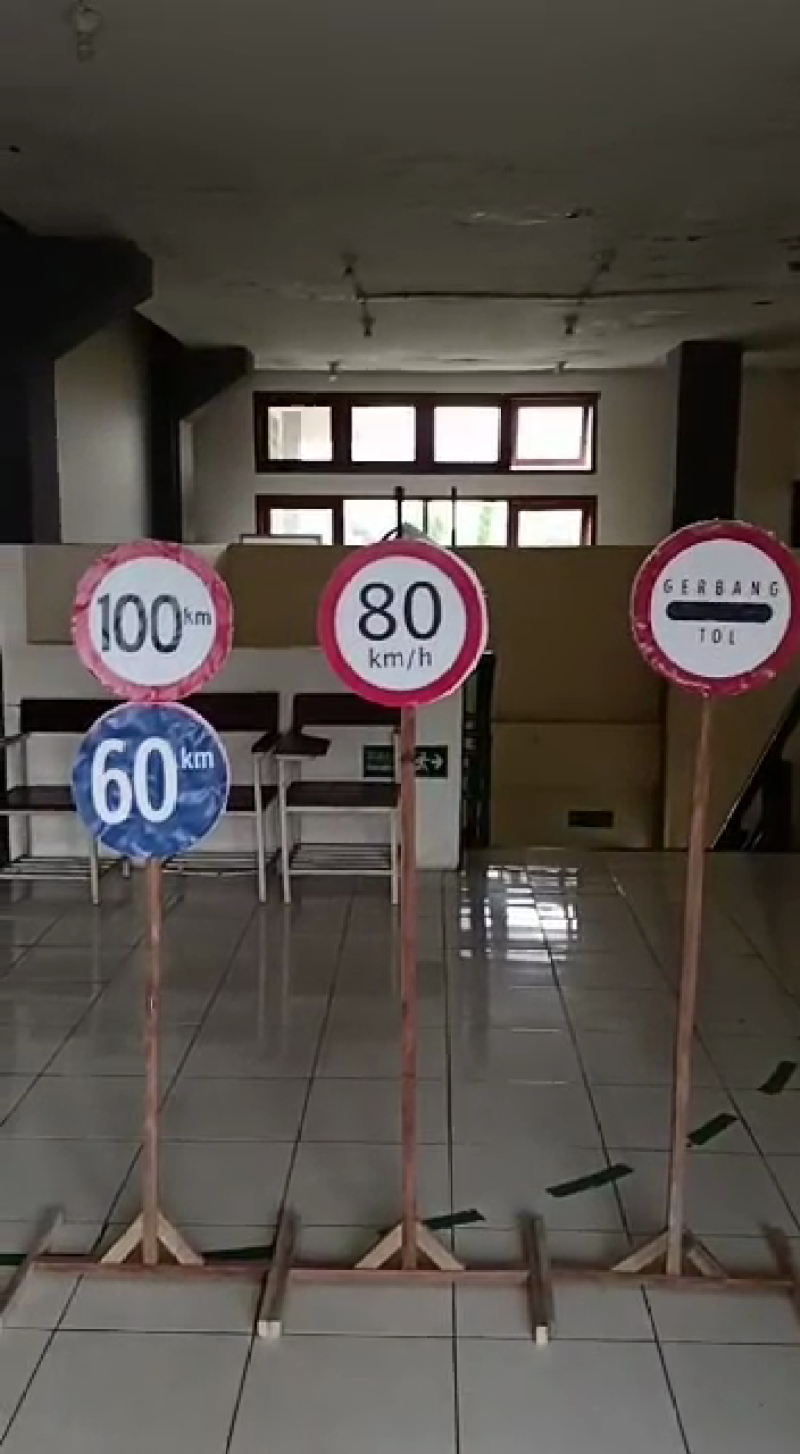batas maksimal 100kmperjam minimal 60kmperjam: (61, 531, 237, 874)
batas maksimal 80kmperjam: (307, 529, 492, 709)
gerbang tol: (609, 505, 800, 694)
